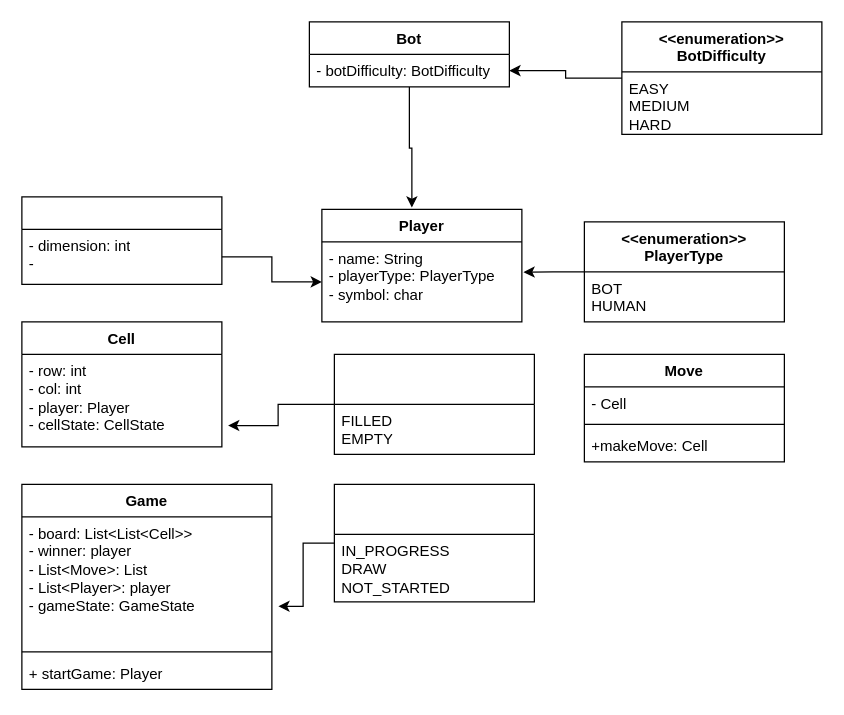
This 844x715 diagram has some shape labels left out. Here are the shapes that lost their labels. From the top down, the box of each, then its label:
(21, 196, 222, 284): Board
(333, 353, 534, 454): <<enumeration>> CellState
(333, 483, 534, 602): <<enumeration>> GameState
